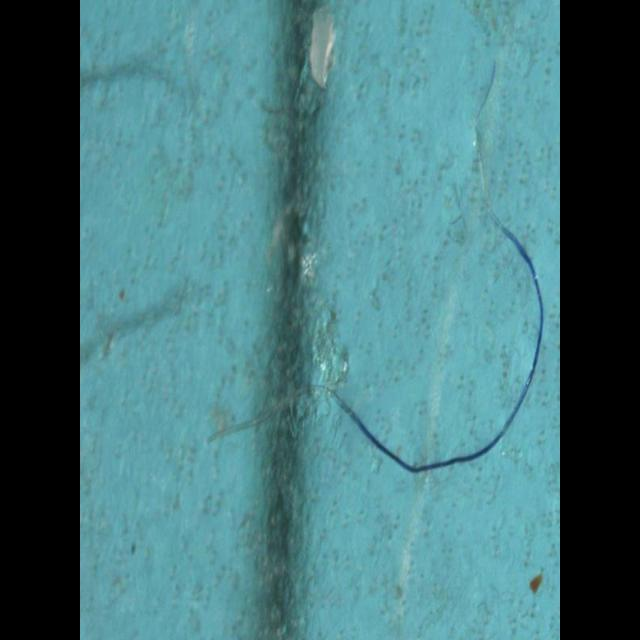Fibre: (319, 213, 549, 481)
